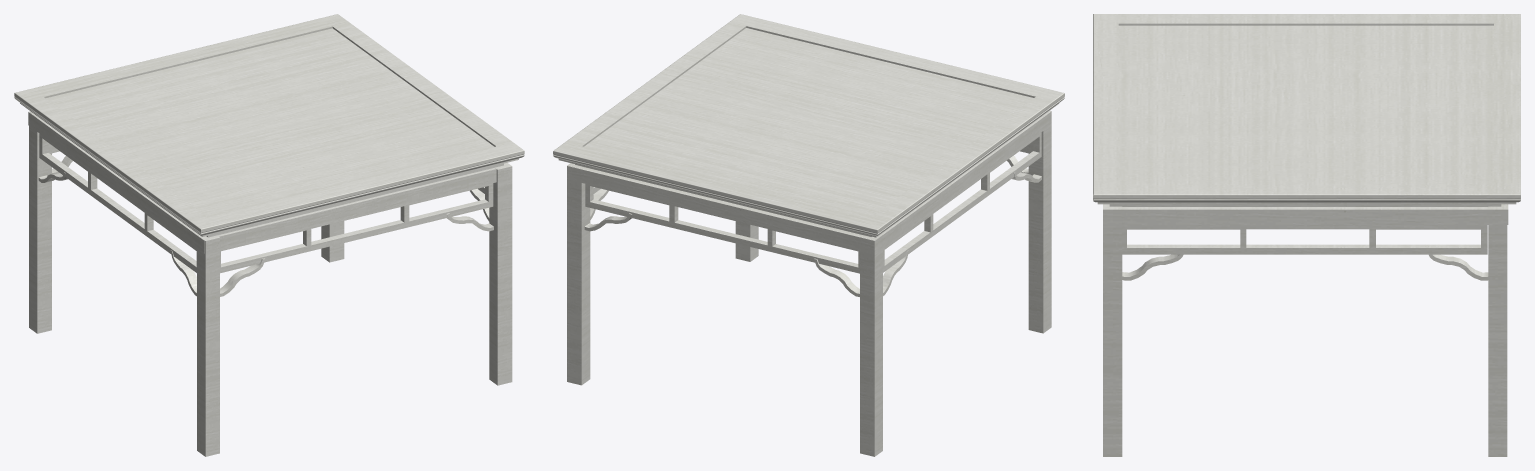
Rendered from Table 1.FBX.
The picture shows the model from 3 angles, left to right: view 1: azimuth 30°, elevation 25°; view 2: azimuth 150°, elevation 25°; view 3: azimuth 270°, elevation 25°; orthographic projection. The views are drawn at different scales.
Parts seen in each view (by area): view 1: table 1; view 2: table 1; view 3: table 1.
Part boxes in pixels (bbox=[...]): table 1: bbox=[14, 14, 524, 456]; table 1: bbox=[553, 14, 1064, 456]; table 1: bbox=[1093, 14, 1520, 456].
Size of the model in its own units: 116 by 79.47 by 115.
